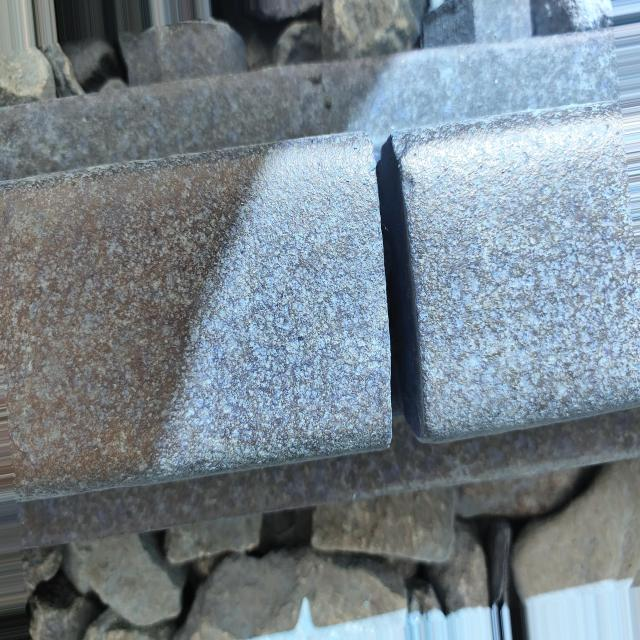crack: (335, 113, 473, 490)
